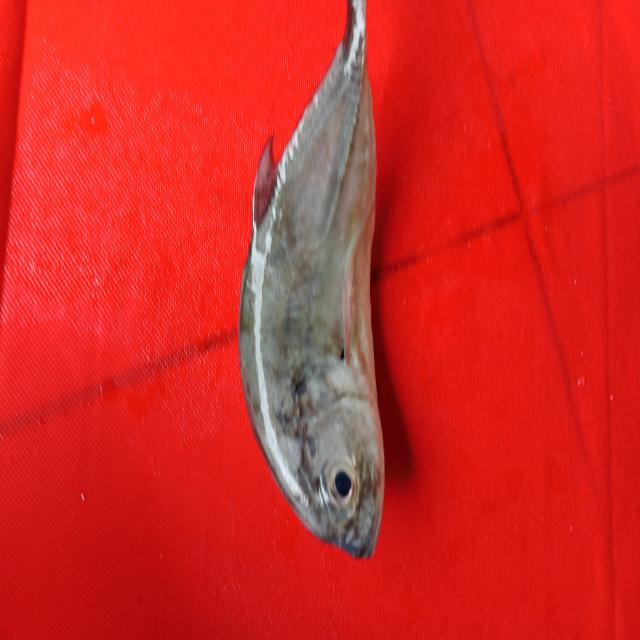ikan: (226, 8, 408, 571)
